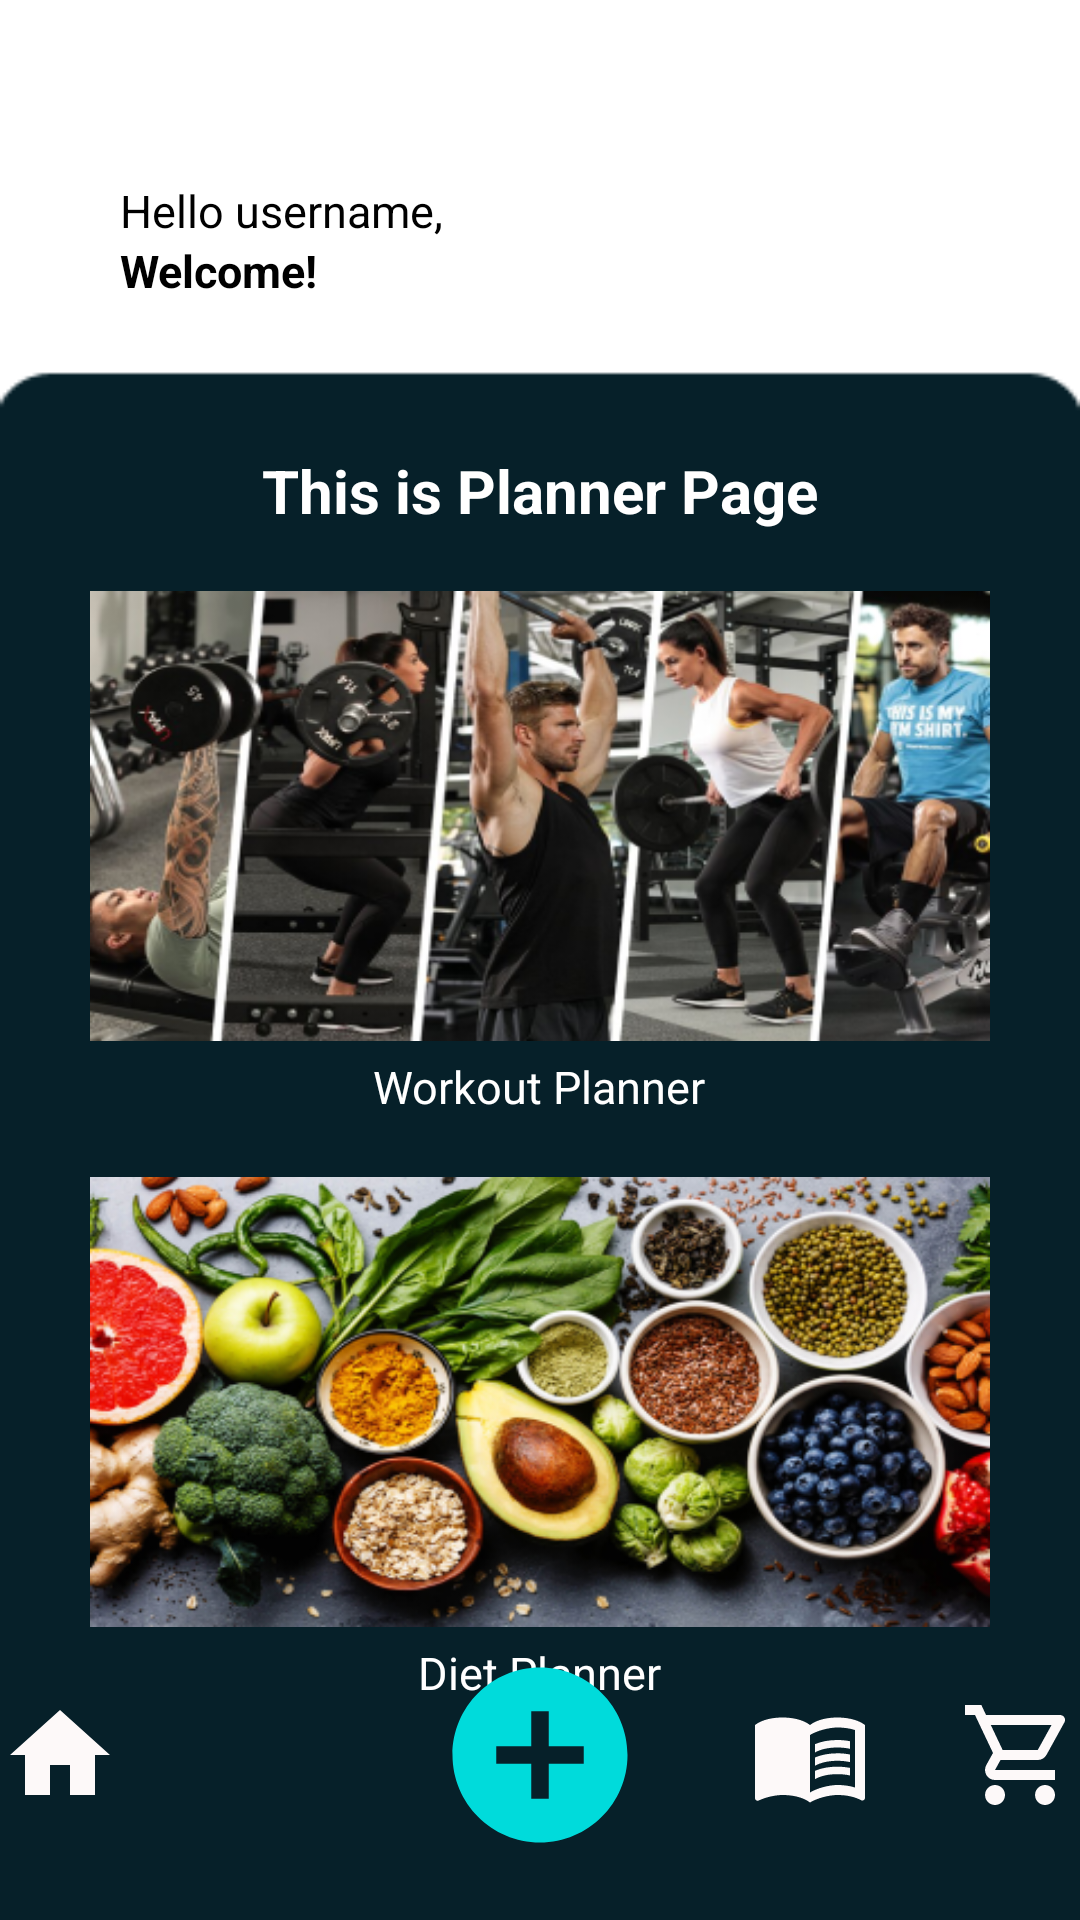

Locate icon controls on the screen. Image size 1080 × 1920, boxes as (x1, y1, x2, y2).
add circle: (451, 1656, 645, 1843)
book: (755, 1717, 865, 1803)
home: (10, 1710, 110, 1795)
shopping cart: (965, 1705, 1065, 1805)
